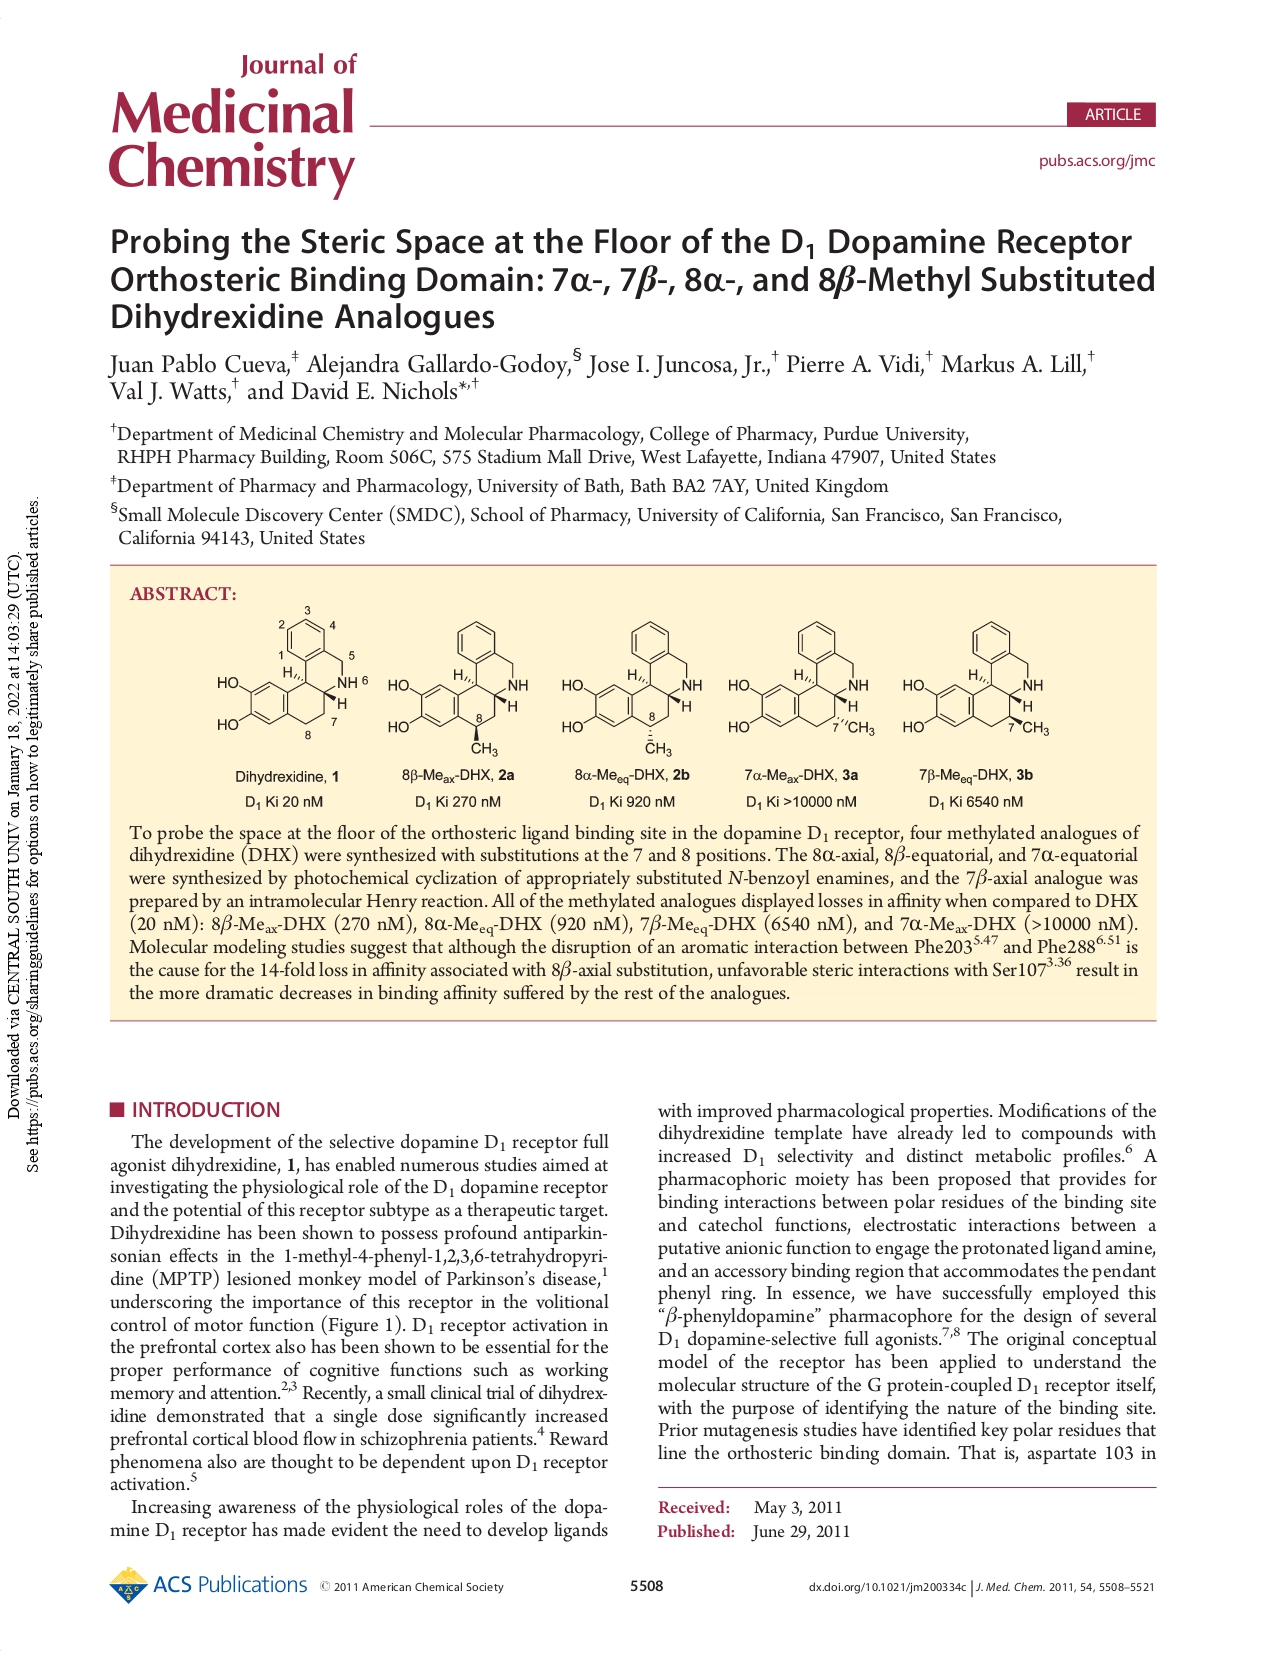exist_molecular: (561, 618, 705, 759), (387, 618, 531, 758), (725, 616, 876, 742), (902, 618, 1053, 739), (214, 617, 359, 731)
